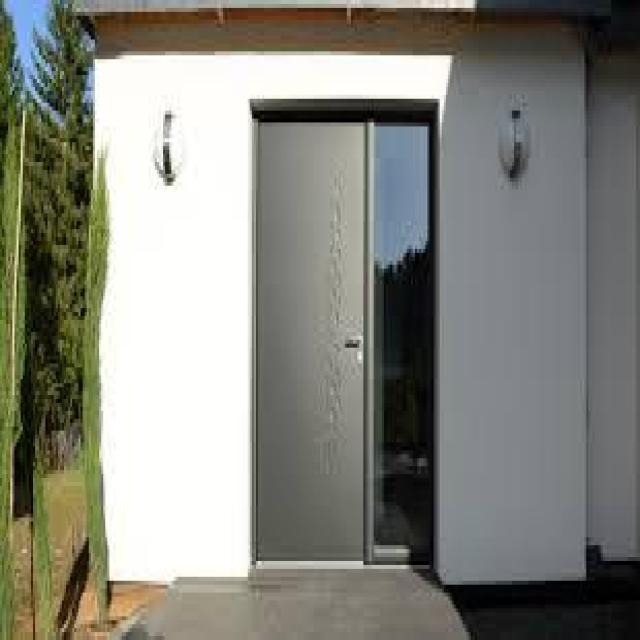door: (248, 95, 446, 579)
